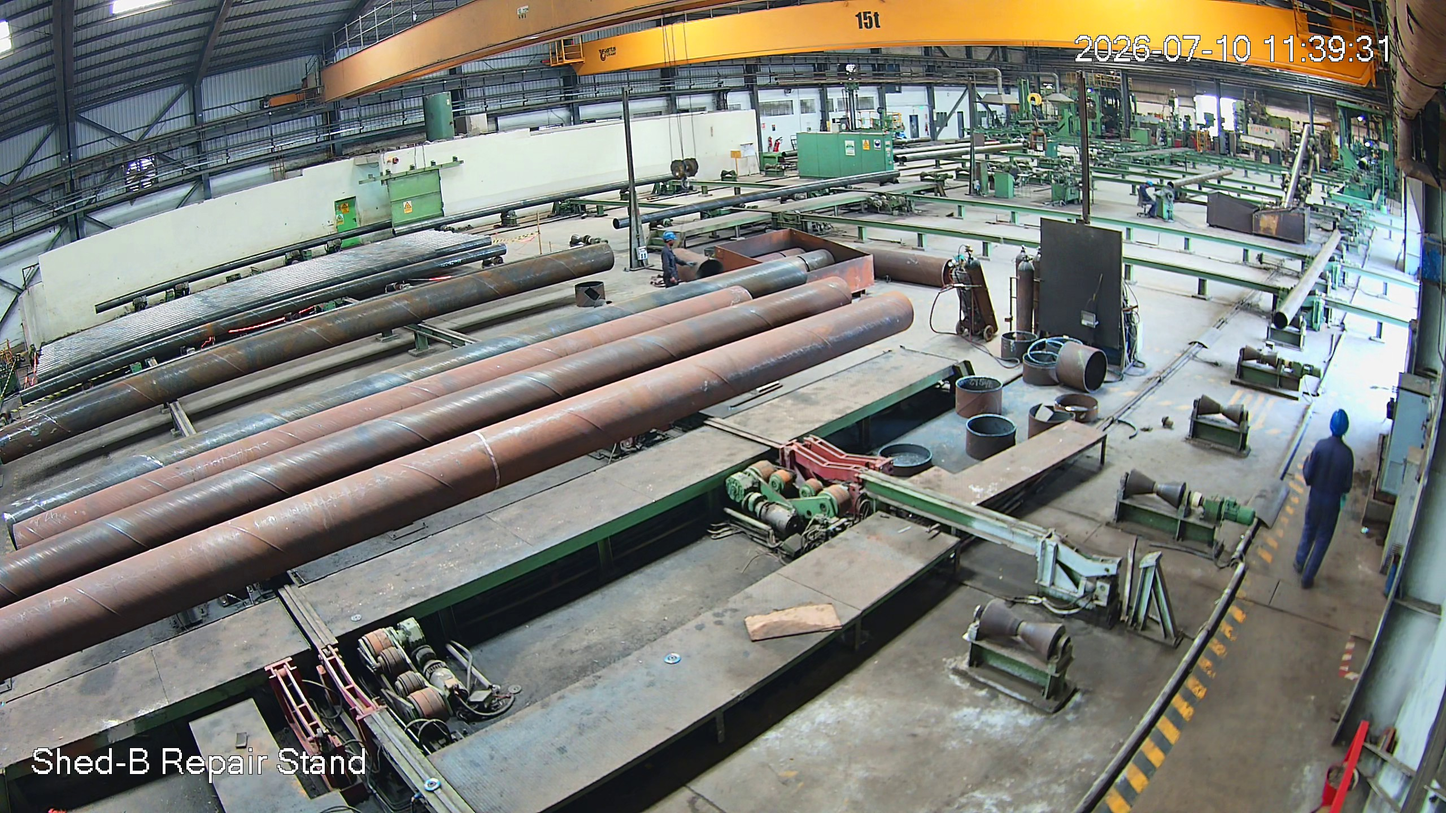Helmet: (1316, 397, 1355, 466), (658, 223, 682, 258), (1138, 175, 1159, 194)
Person: (1296, 404, 1362, 584), (648, 228, 704, 293), (1134, 179, 1160, 219)
